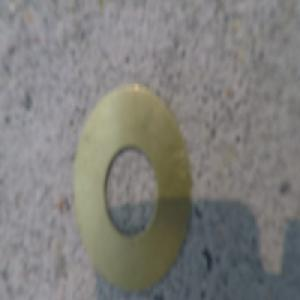Washer: (72, 85, 188, 285)
